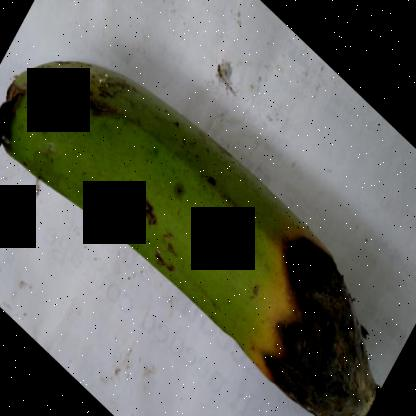rotten: (243, 208, 411, 415), (0, 52, 37, 162), (122, 154, 166, 232)
